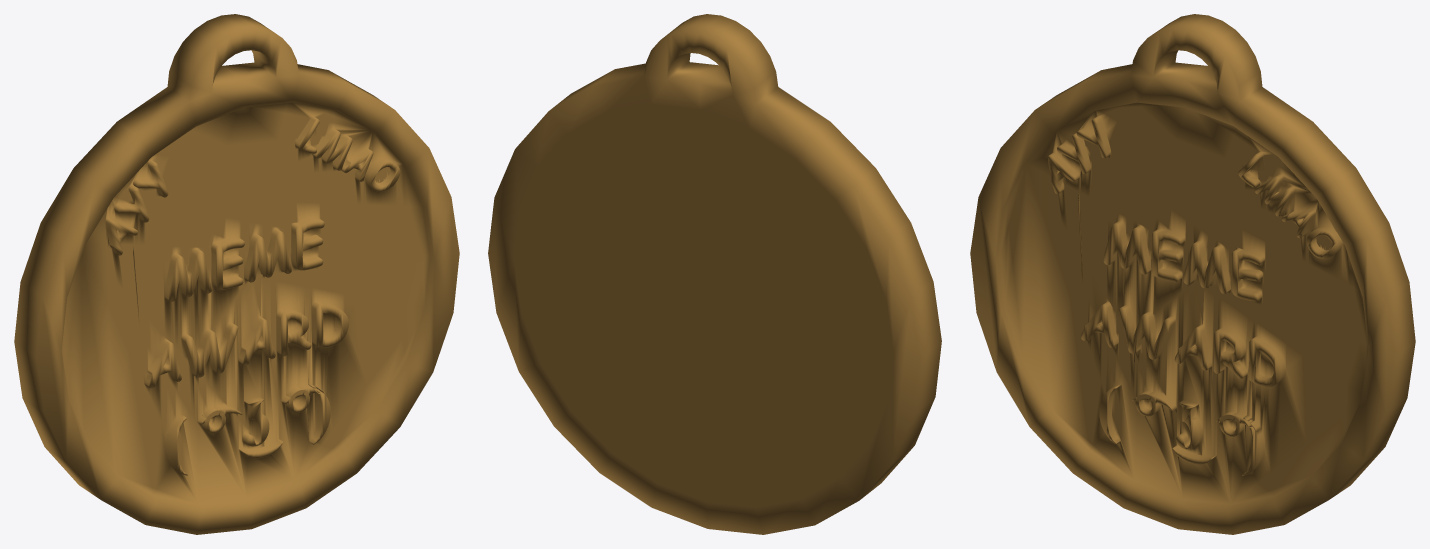
Rendered from medal.obj.
The picture shows the model from 3 angles, left to right: view 1: azimuth 30°, elevation 25°; view 2: azimuth 150°, elevation 25°; view 3: azimuth 330°, elevation 25°; orthographic projection.
Parts seen in each view (by area): view 1: MemeAward2; view 2: MemeAward2; view 3: MemeAward2.
Part boxes in pixels (bbox=[...]): MemeAward2: bbox=[14, 14, 459, 534]; MemeAward2: bbox=[488, 14, 941, 534]; MemeAward2: bbox=[970, 14, 1415, 534].
Size of the model in its own units: 50 by 55.73 by 6.23.
